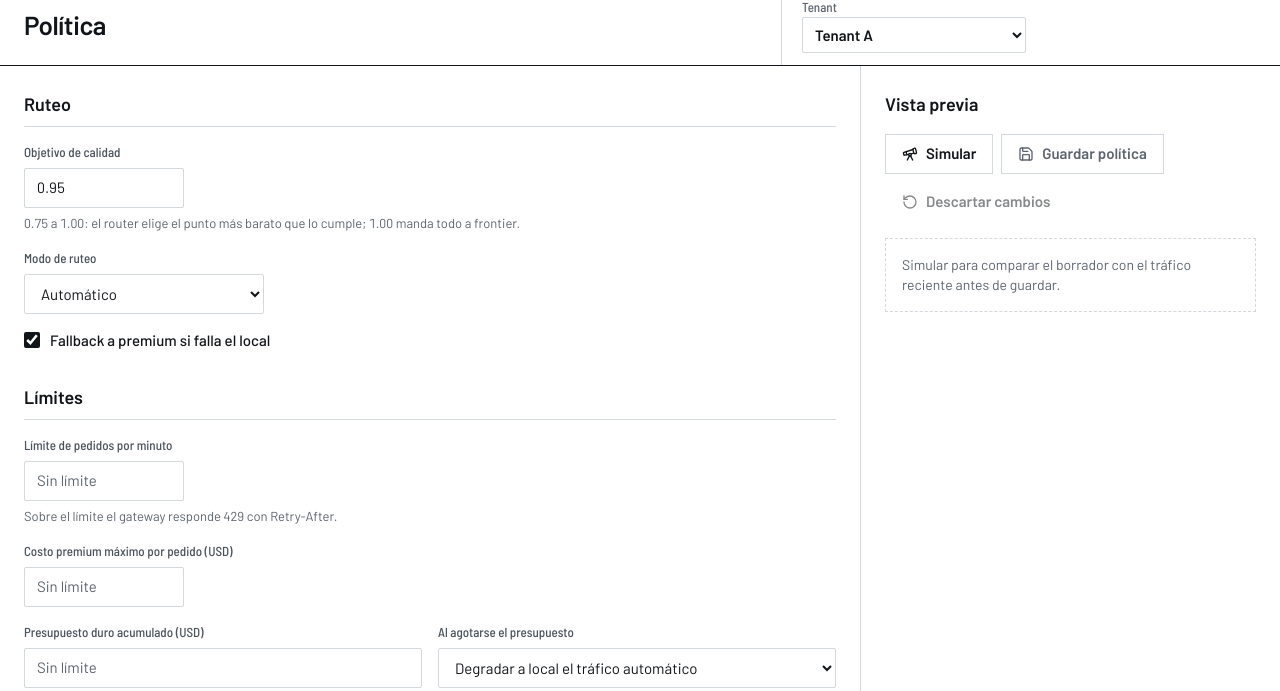
policy-page › confirms a saved policy with 'Política guardada.' through the refetch, until the next edit
Expected: the heading "Vista previa" is shown, top-left (885, 90), bottom-right (978, 118)
Click the checkbox labelled "Fallback a premium si falla el local" at (32, 340), box top-left (24, 332), bottom-right (40, 348)
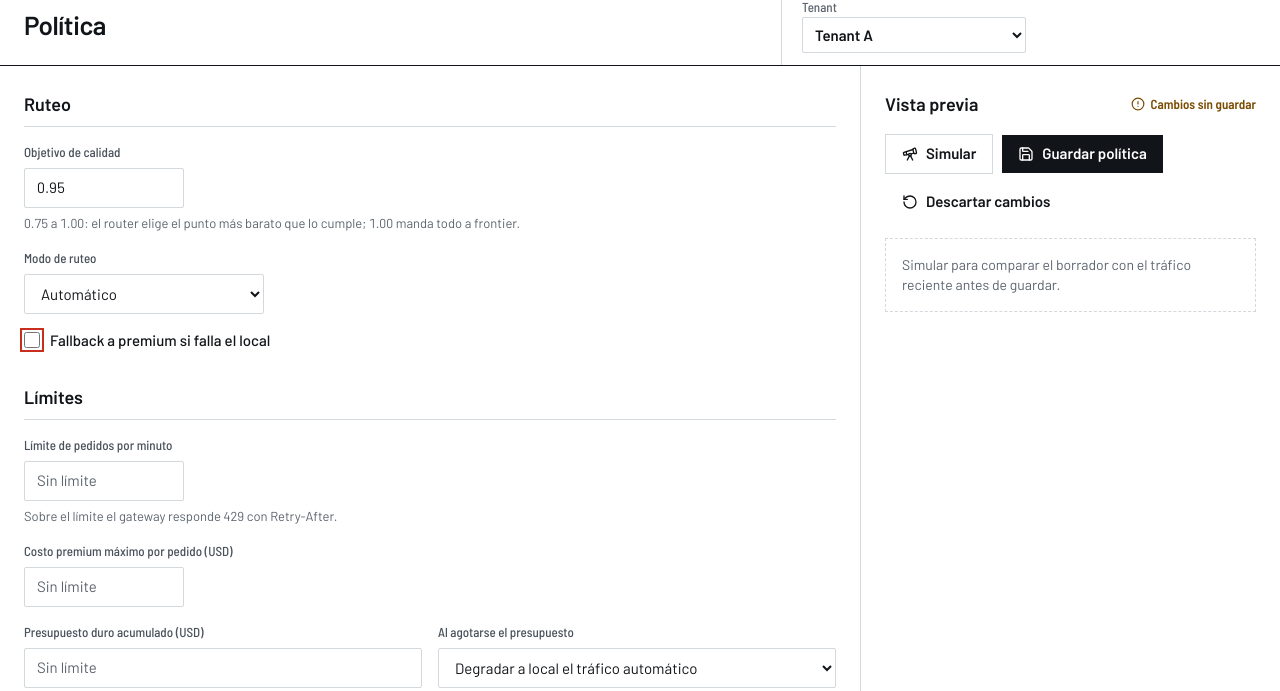
Expected: the text "Política guardada." is not shown
Click the button "Guardar política" at (1083, 154), box top-left (1001, 134), bottom-right (1164, 174)
(page scrolled)
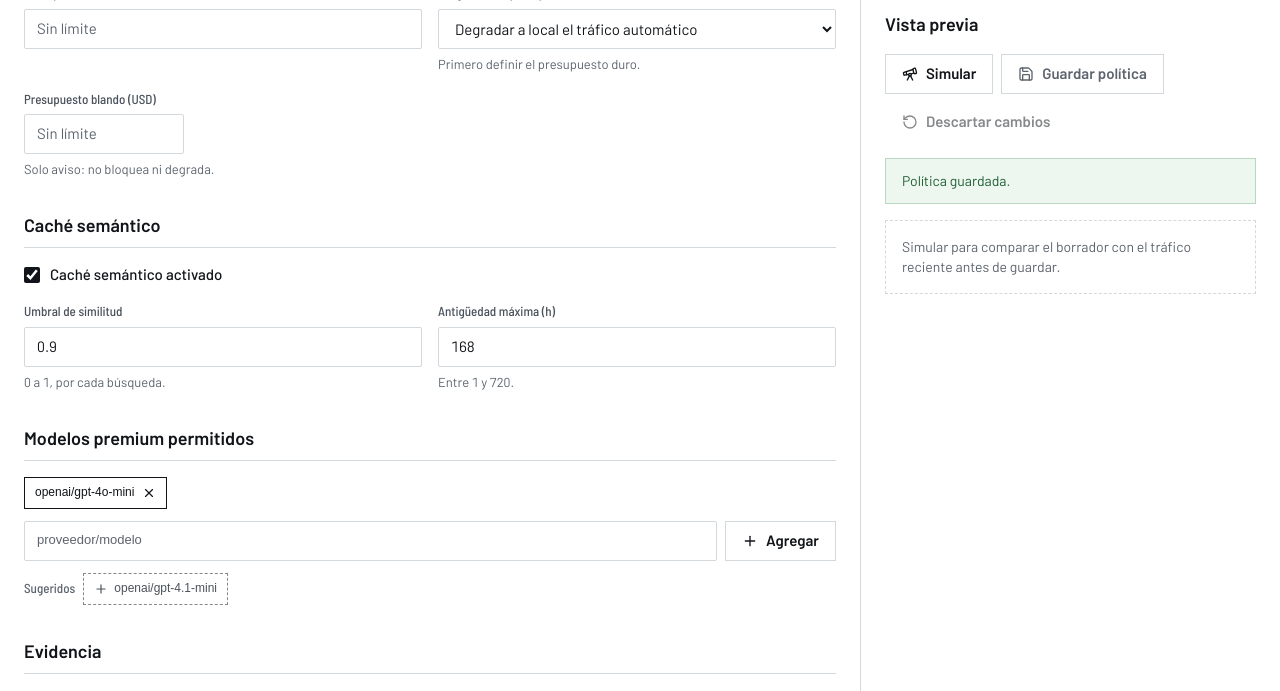
Expected: the text "Política guardada." is shown, top-left (902, 172), bottom-right (1010, 189)
Expected: the text "Cambios sin guardar" is gone
Type "1" into the field labelled "Umbral de similitud" at (223, 347), box top-left (24, 327), bottom-right (422, 367)
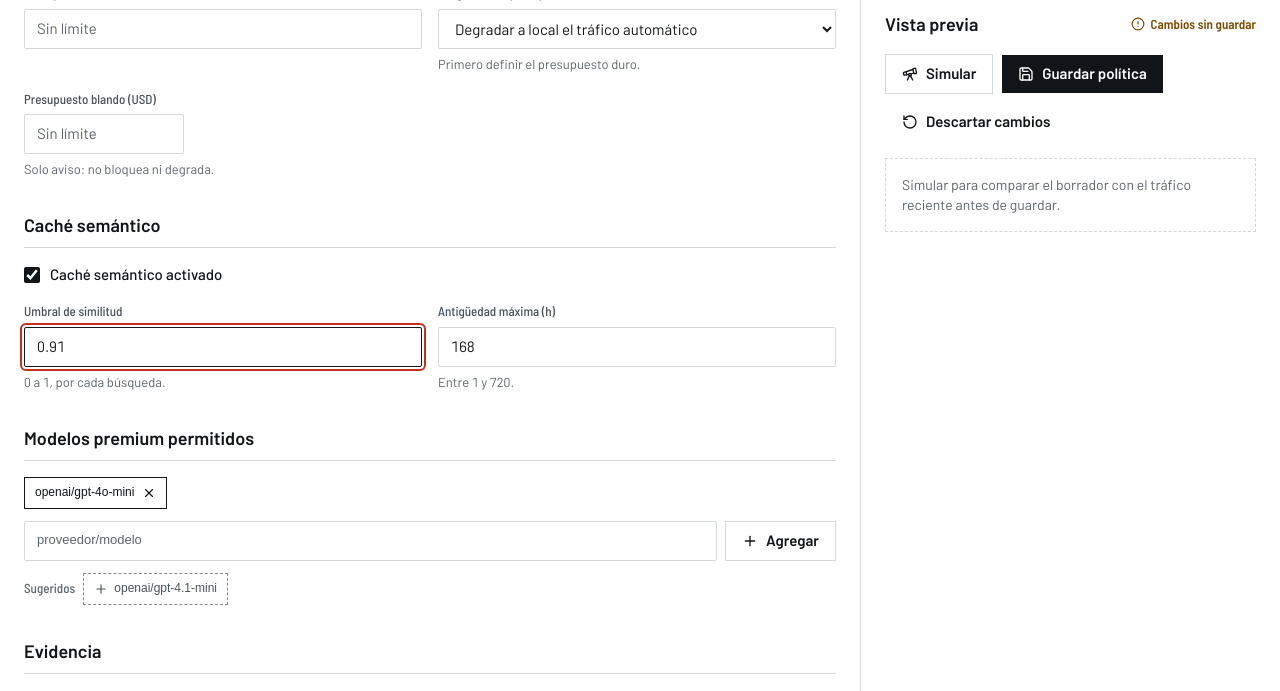
Expected: the text "Política guardada." is gone
